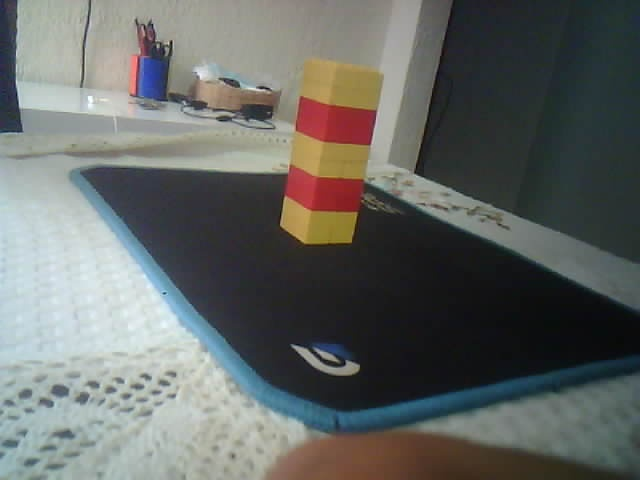lego: (278, 58, 385, 246)
